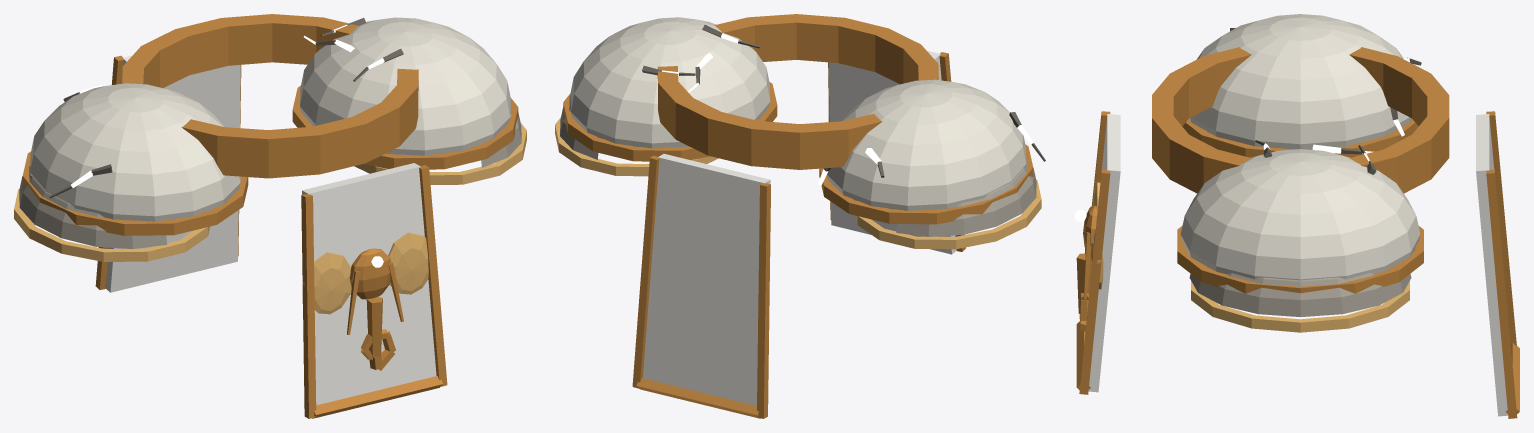
File: sky_guardian_mantle.glb
The picture shows the model from 3 angles, left to right: view 1: azimuth 30°, elevation 25°; view 2: azimuth 150°, elevation 25°; view 3: azimuth 270°, elevation 25°; orthographic projection. The views are drawn at different scales.
Visible parts, largest first — view 1: sky_guardian_mantle; view 2: sky_guardian_mantle; view 3: sky_guardian_mantle.
Part boxes in pixels (x1,y1,x2,y2): sky_guardian_mantle: (14, 14, 526, 418); sky_guardian_mantle: (555, 14, 1045, 418); sky_guardian_mantle: (1074, 14, 1519, 418).
Size of the model in its own units: 1.29 by 0.7264 by 1.
